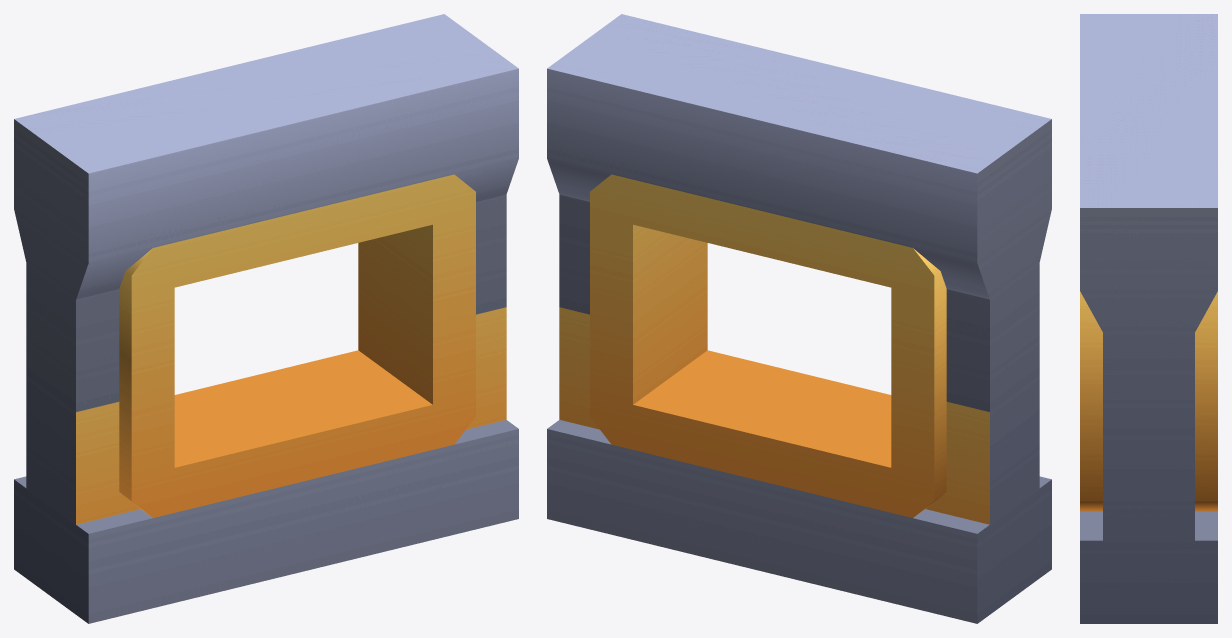
The model's file is wall-window-banner.glb.
3 renders of one model, left to right at view 1: azimuth 30°, elevation 25°; view 2: azimuth 150°, elevation 25°; view 3: azimuth 270°, elevation 25°, orthographic. The views are drawn at different scales.
Parts seen in each view (by area): view 1: wall-window-banner; view 2: wall-window-banner; view 3: wall-window-banner.
Part boxes in pixels (x1,y1,x2,y2): wall-window-banner: (14,14,518,623); wall-window-banner: (547,14,1051,623); wall-window-banner: (1080,14,1217,623).
Bounding box in the file's own units: 1 × 1 × 0.3.
Materials: 1 (1 with a texture image).
